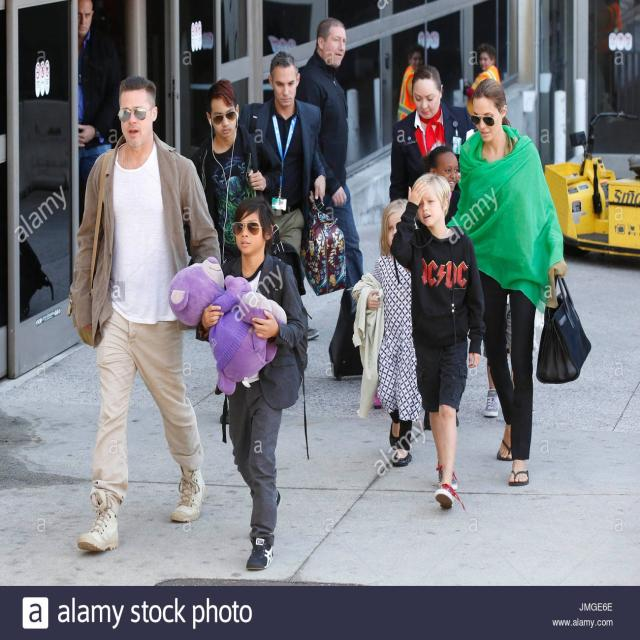body: (66, 76, 222, 553), (438, 78, 594, 488), (194, 197, 314, 572), (182, 77, 285, 425), (390, 173, 484, 511), (236, 51, 330, 260), (351, 199, 424, 468), (298, 16, 366, 292), (389, 65, 478, 203), (77, 0, 118, 187), (482, 288, 526, 431), (593, 0, 640, 118), (417, 143, 462, 228), (465, 42, 502, 117), (397, 43, 426, 125)
